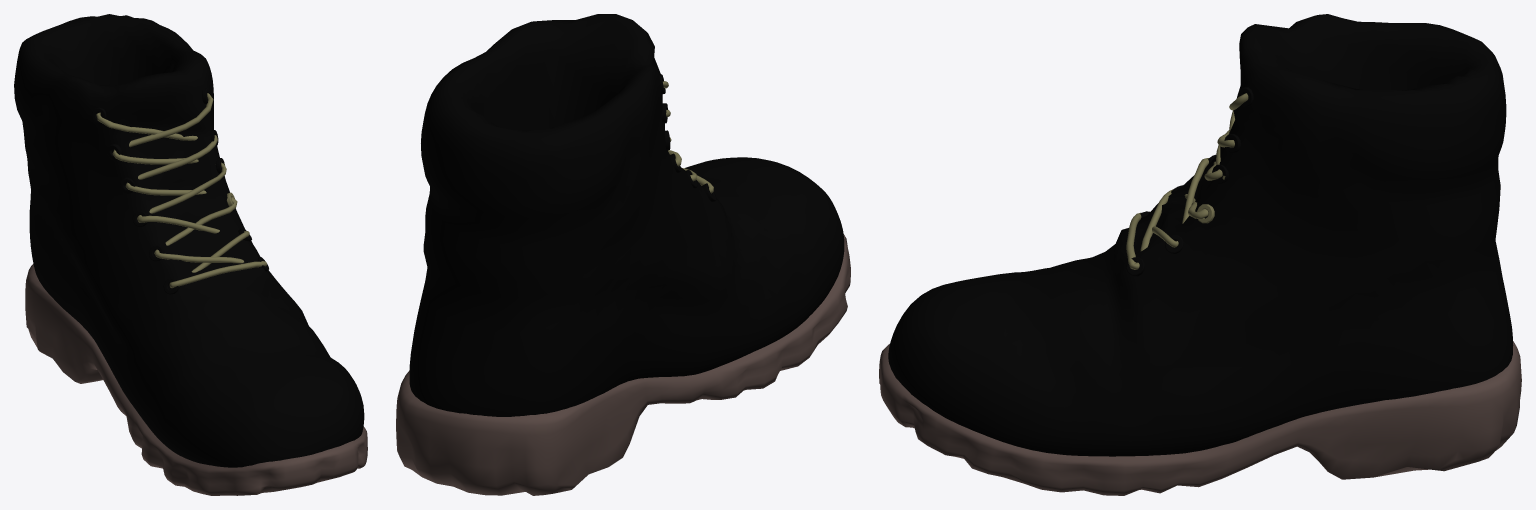
The model's file is botte_G_t_ 1.fbx.
3 renders of one model, left to right at view 1: azimuth 30°, elevation 25°; view 2: azimuth 150°, elevation 25°; view 3: azimuth 270°, elevation 25°, orthographic. The views are drawn at different scales.
Parts seen in each view (by area): view 1: Winter_Boots; view 2: Winter_Boots; view 3: Winter_Boots.
Part boxes in pixels (left/top/right/bottom): Winter_Boots: left=14, top=14, right=367, bottom=495; Winter_Boots: left=396, top=14, right=850, bottom=495; Winter_Boots: left=879, top=14, right=1521, bottom=495.
Bounding box in the file's own units: 19.47 × 32.29 × 47.3.
